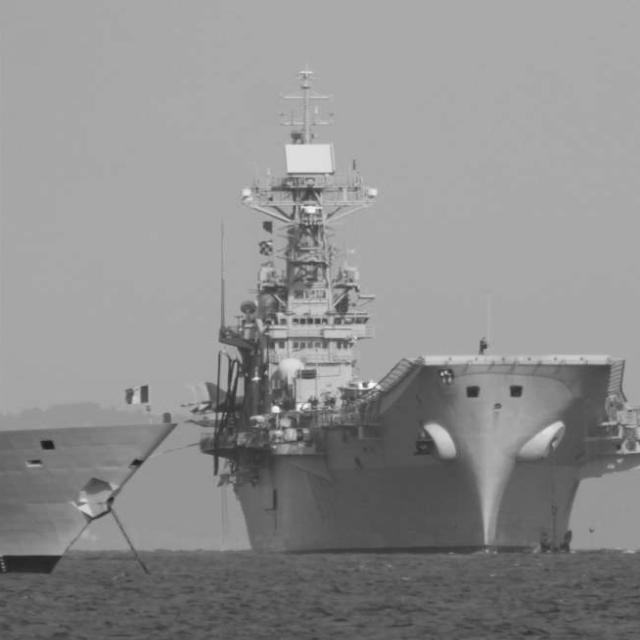Portanaves: (181, 65, 640, 558)
